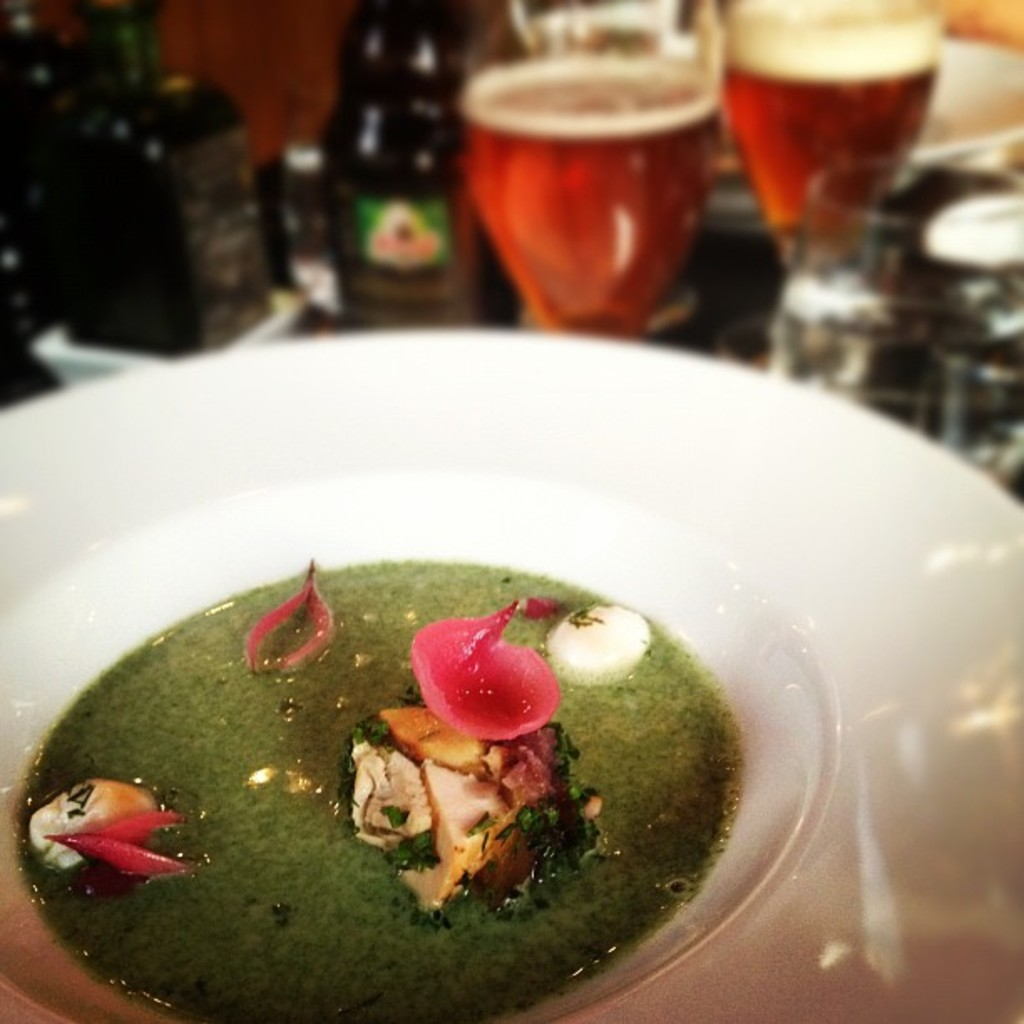Beer: (461, 60, 709, 331), (721, 0, 943, 244)
